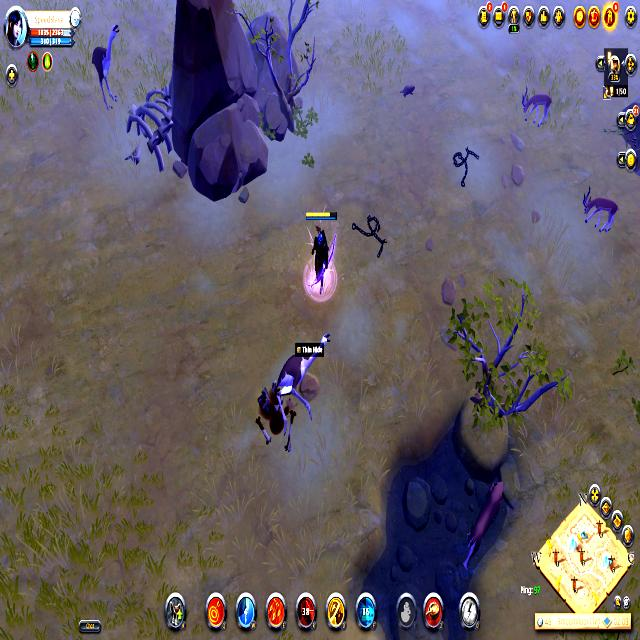mob: (265, 323, 334, 444)
ore: (463, 465, 510, 562), (85, 18, 128, 115), (520, 75, 556, 141), (579, 177, 621, 230)
red: (300, 205, 340, 302)
